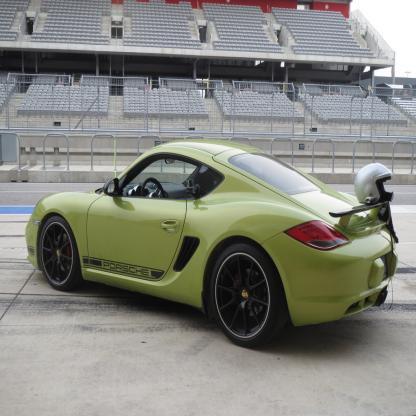Car: (26, 140, 399, 349)
